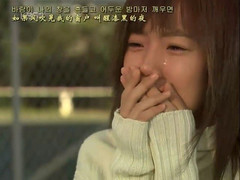face: (117, 9, 212, 117)
